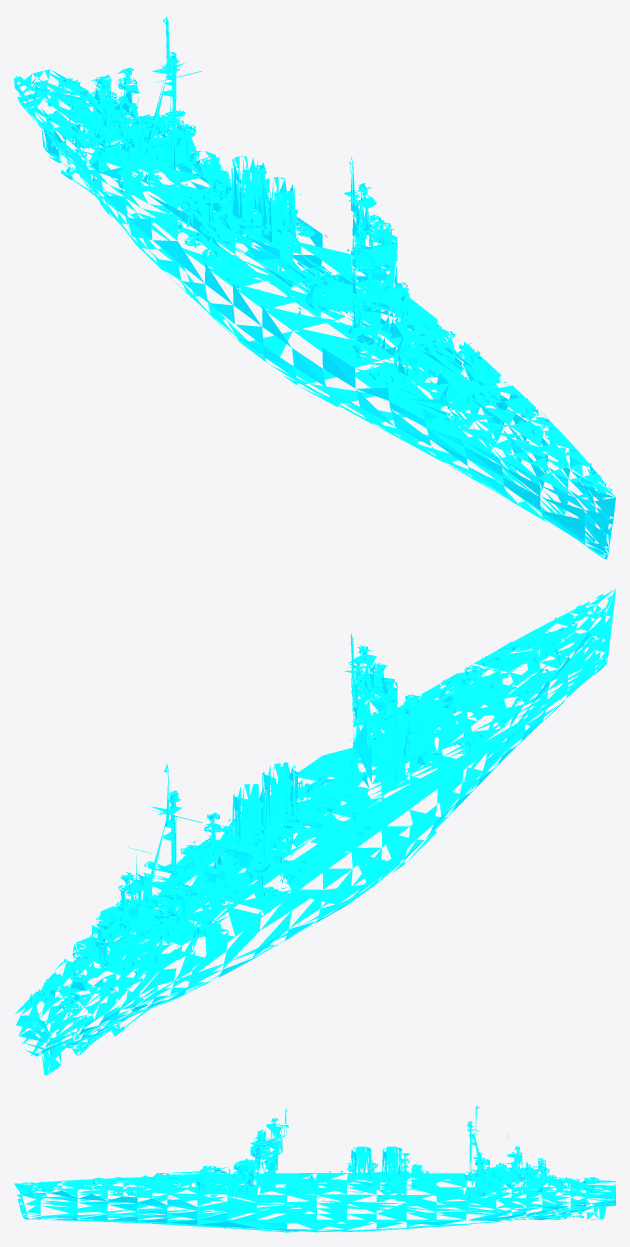
The model's file is St_Lawrence.glb.
3 renders of one model, top to bottom at view 1: azimuth 30°, elevation 25°; view 2: azimuth 150°, elevation 25°; view 3: azimuth 270°, elevation 25°, orthographic. The views are drawn at different scales.
Size of the model in its own units: 2.21 by 3.95 by 18.65.
